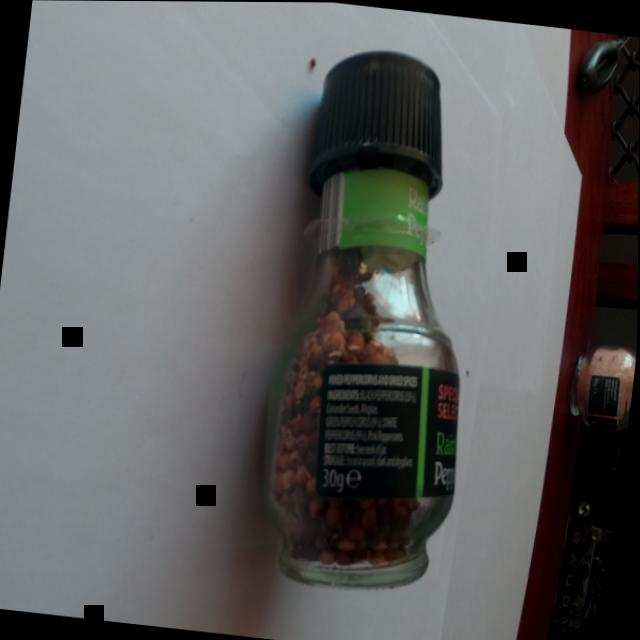Blackpepper: (239, 23, 511, 625)
